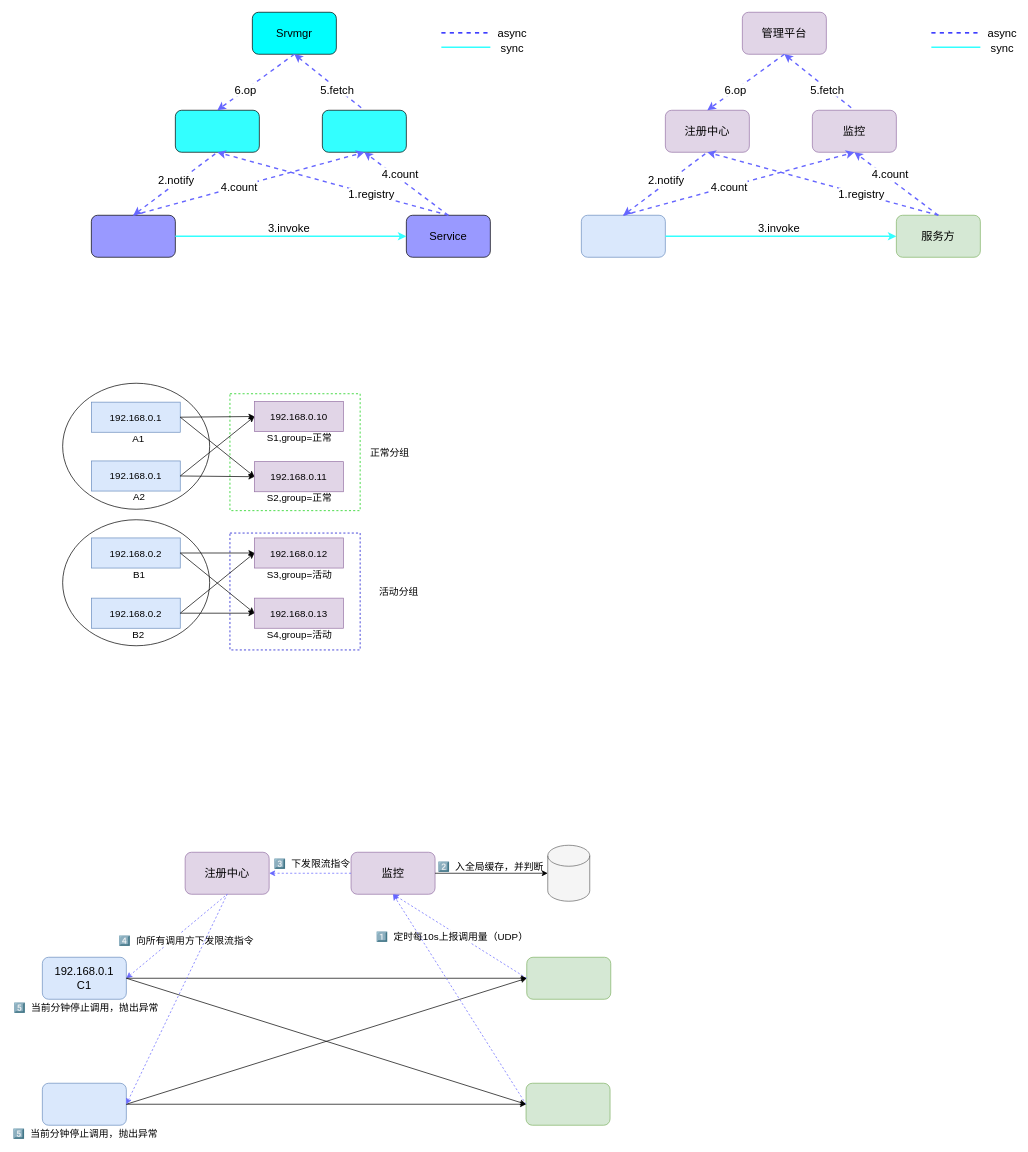
The diagram is 1028 pixels wide and 1152 high, and some of its shapes have lost their labels. The shapes that lost their labels are listed below. From the top down, each one's centre as x and y in pixels, then its label:
point 217,131: Control Center
point 364,131: Monitor
point 133,236: Caller
point 623,236: 调用方
point 568,873: Redis
point 568,978: 192.168.1.1 S1
point 84,1104: 192.168.0.2 C2
point 567,1104: 192.168.1.2 S2
